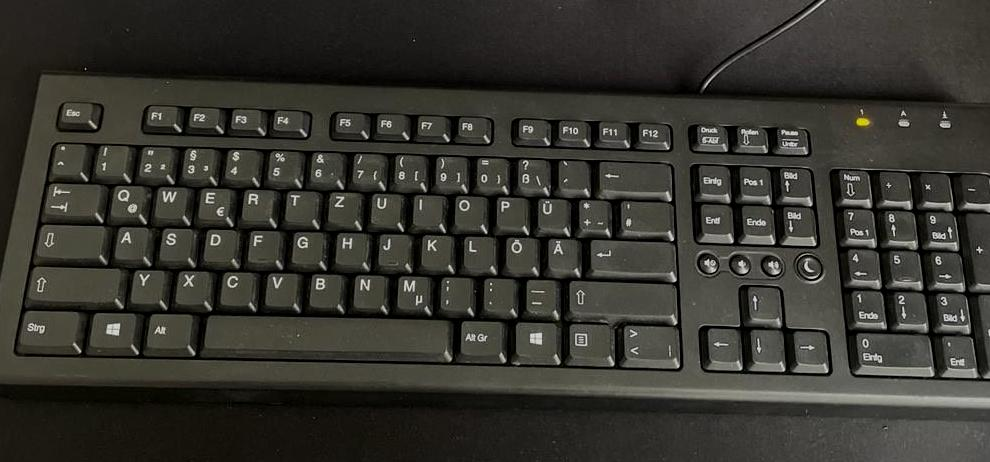0: (471, 153, 508, 191)
1: (91, 141, 127, 177)
2: (134, 142, 174, 180)
3: (178, 144, 215, 180)
4: (221, 145, 258, 182)
5: (263, 146, 301, 184)
6: (305, 147, 343, 186)
7: (348, 149, 386, 188)
8: (389, 150, 426, 190)
9: (430, 152, 467, 190)
a: (112, 223, 147, 260)
accent: (555, 156, 588, 193)
ae: (545, 235, 579, 272)
alt-left: (142, 310, 191, 349)
altgr-right: (456, 317, 502, 357)
b: (305, 270, 341, 307)
c: (217, 268, 254, 305)
caret: (48, 139, 84, 174)
comma: (437, 274, 470, 312)
d: (200, 226, 235, 262)
del: (595, 158, 669, 193)
e: (194, 184, 232, 221)
enter: (587, 236, 674, 273)
f: (244, 227, 279, 263)
g: (288, 229, 322, 264)
h: (333, 229, 367, 264)
hash: (616, 198, 672, 235)
i: (410, 192, 442, 225)
j: (375, 231, 409, 268)
k: (418, 231, 452, 269)
keyboard: (1, 67, 990, 413)
l: (460, 233, 494, 270)
less: (617, 322, 682, 367)
m: (393, 272, 429, 310)
minus: (522, 276, 557, 315)
n: (350, 271, 385, 308)
o: (450, 193, 485, 229)
oe: (502, 234, 537, 272)
p: (492, 193, 526, 229)
plus: (574, 196, 609, 233)
point: (479, 274, 514, 314)
q: (106, 182, 148, 220)
r: (238, 186, 274, 221)
s: (156, 225, 191, 261)
shift-left: (25, 263, 121, 303)
shift-lock: (33, 221, 103, 258)
shift-right: (566, 277, 675, 315)
space: (200, 312, 450, 356)
ss: (512, 155, 549, 192)
strg-left: (12, 306, 80, 349)
t: (282, 188, 317, 222)
tab: (40, 180, 101, 217)
u: (367, 190, 401, 226)
ue: (533, 195, 568, 232)
v: (262, 269, 297, 306)
w: (152, 183, 187, 219)
x: (173, 267, 209, 304)
y: (128, 266, 164, 303)
z: (325, 188, 359, 224)
